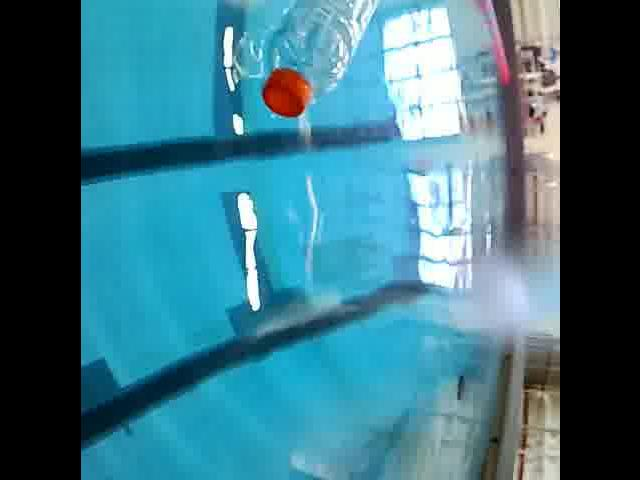Bottle: (251, 0, 387, 125)
